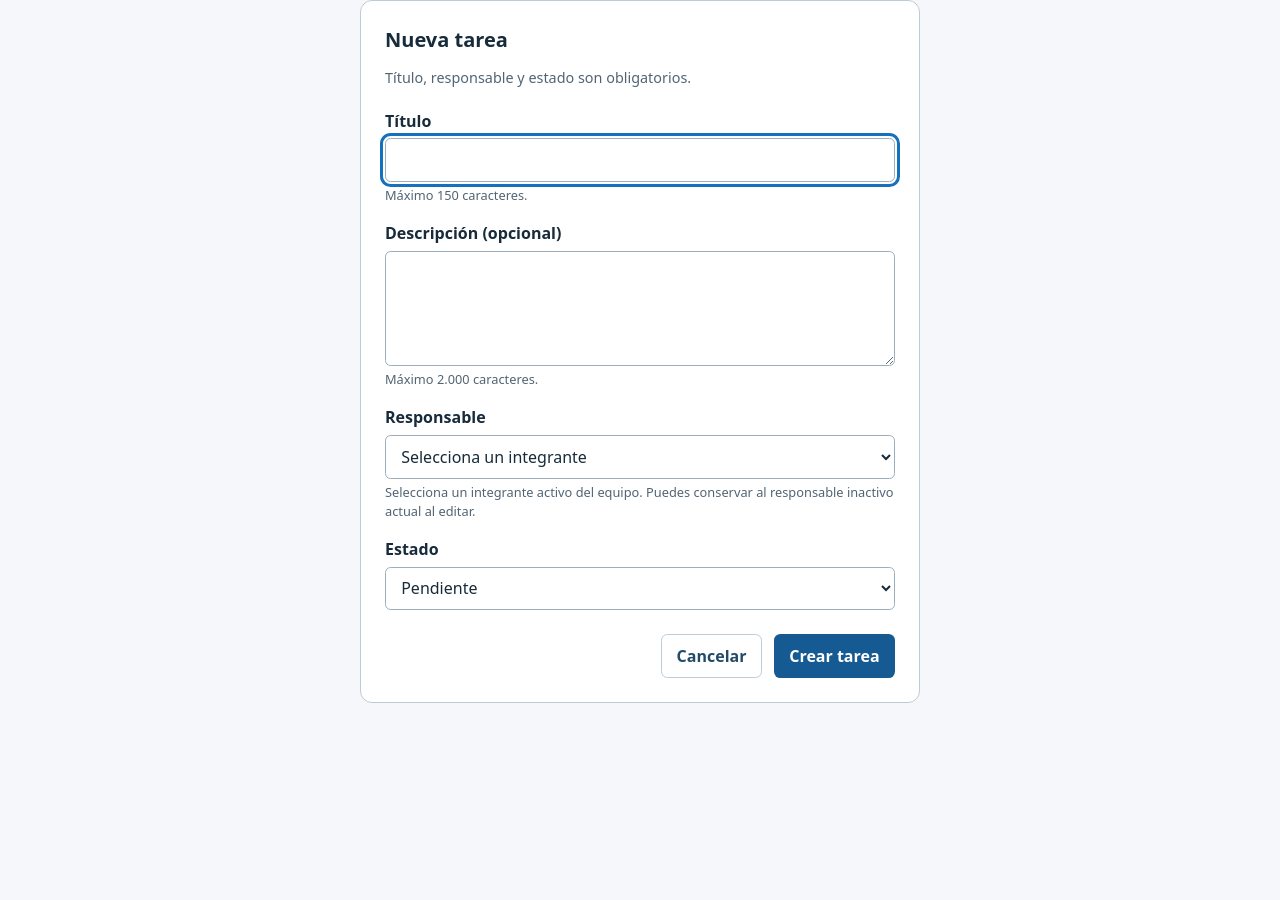
Selector de responsables registrados › conserva los datos y permite elegir otro integrante si la API rechaza al desactivado al crear
This screenshot has width=1280, height=900.
Type "Texto que debe conservarse" into the field labelled "Título" at (640, 160), box [385,138,895,182]
Type "Descripción pendiente de guardar" into the text box labelled "Descripción (opcional)" at (640, 308), box [385,251,895,366]
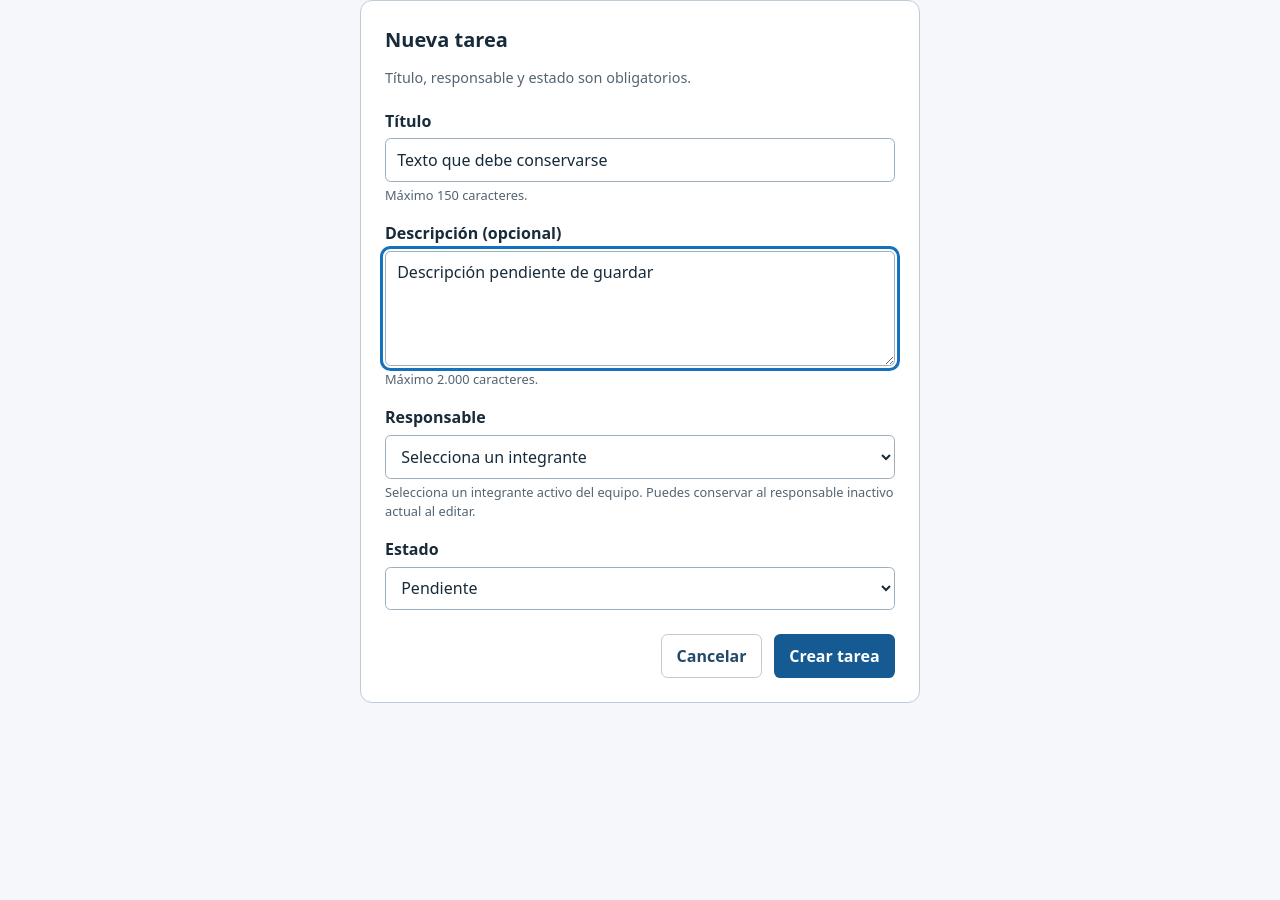
Select "Luis Torres · TI-002" in the dropdown labelled "Responsable" at (640, 457), box [385,435,895,479]
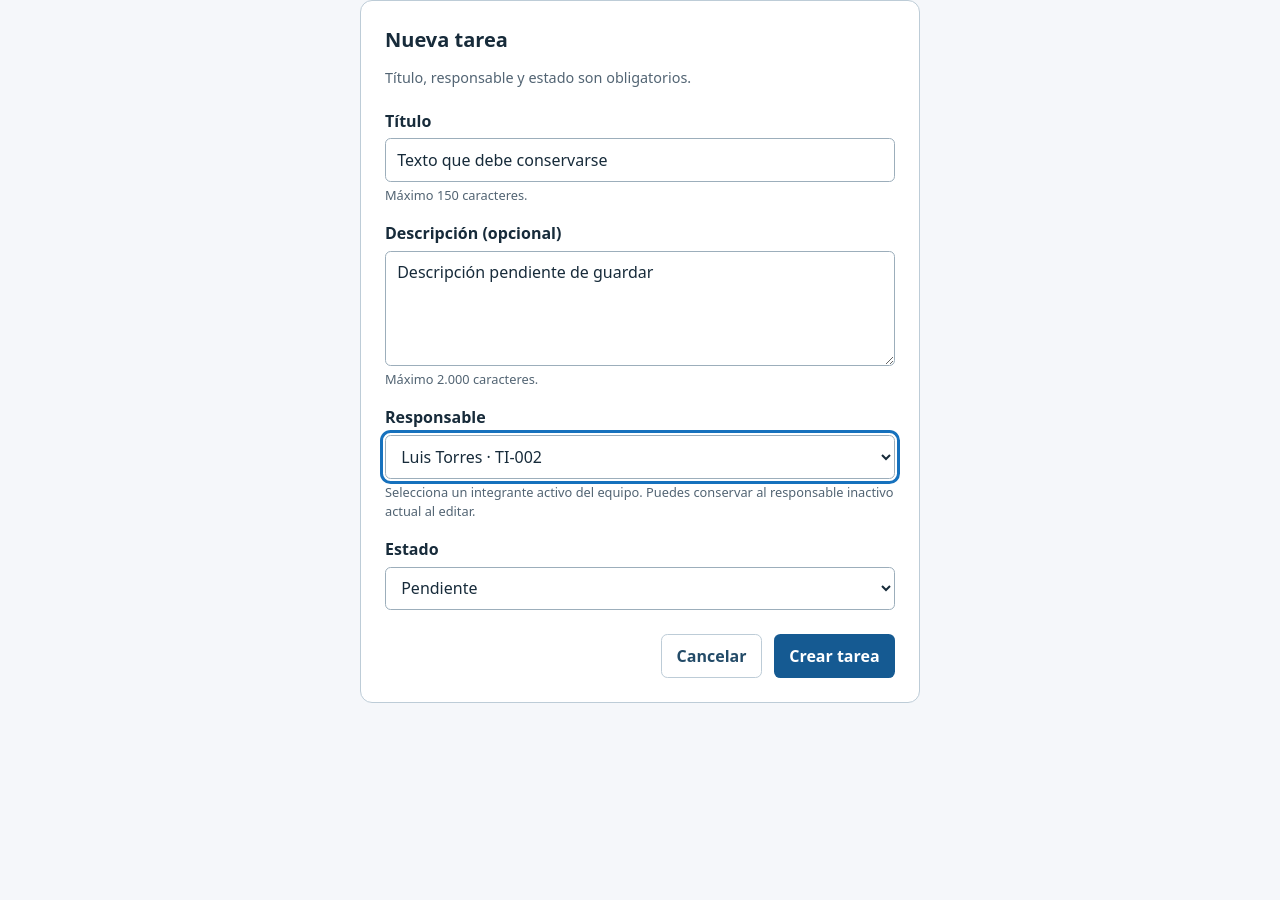
Select "En Proceso" in the dropdown labelled "Estado" at (640, 588), box [385,566,895,610]
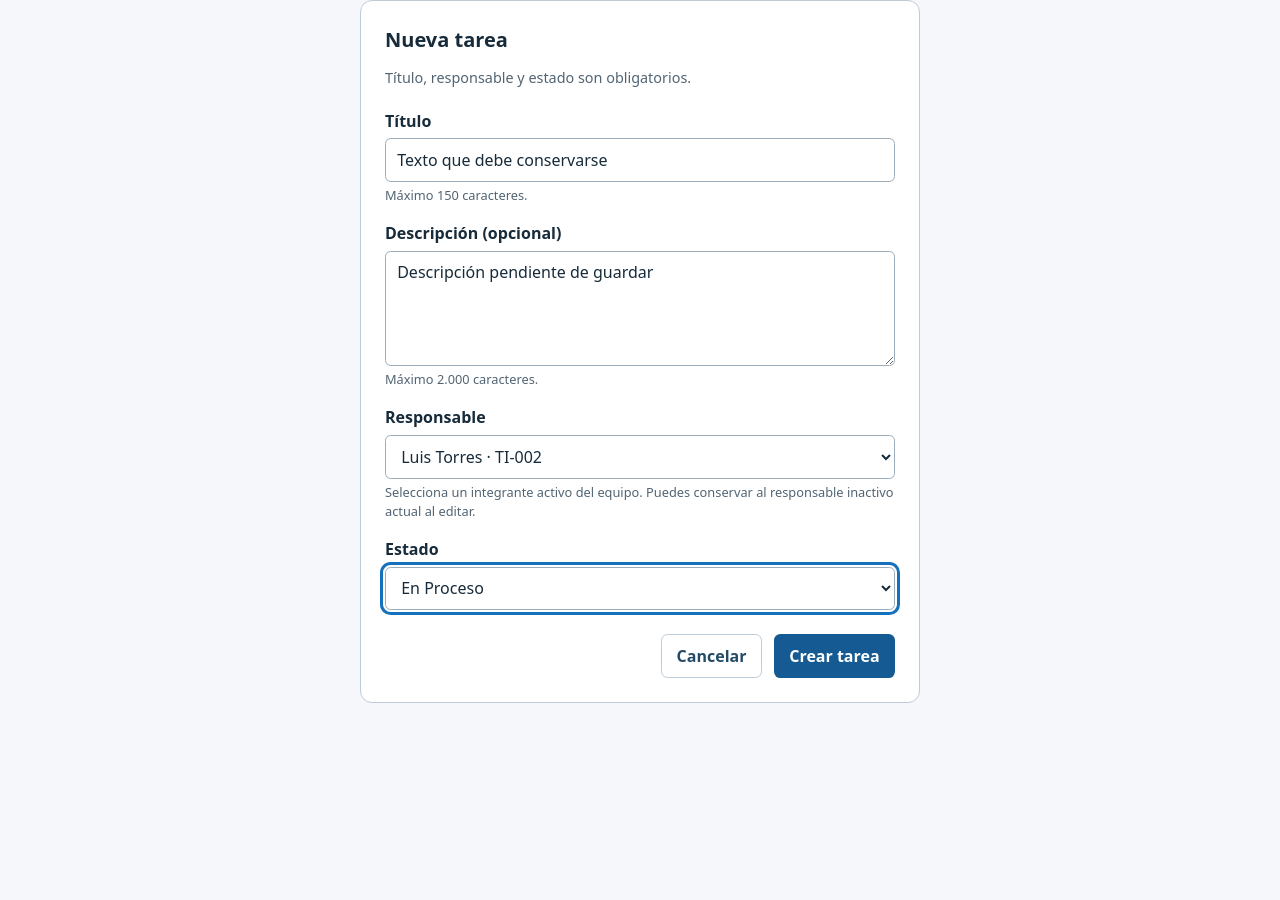
Click the button "Crear tarea" at (834, 656), box [774,634,895,678]
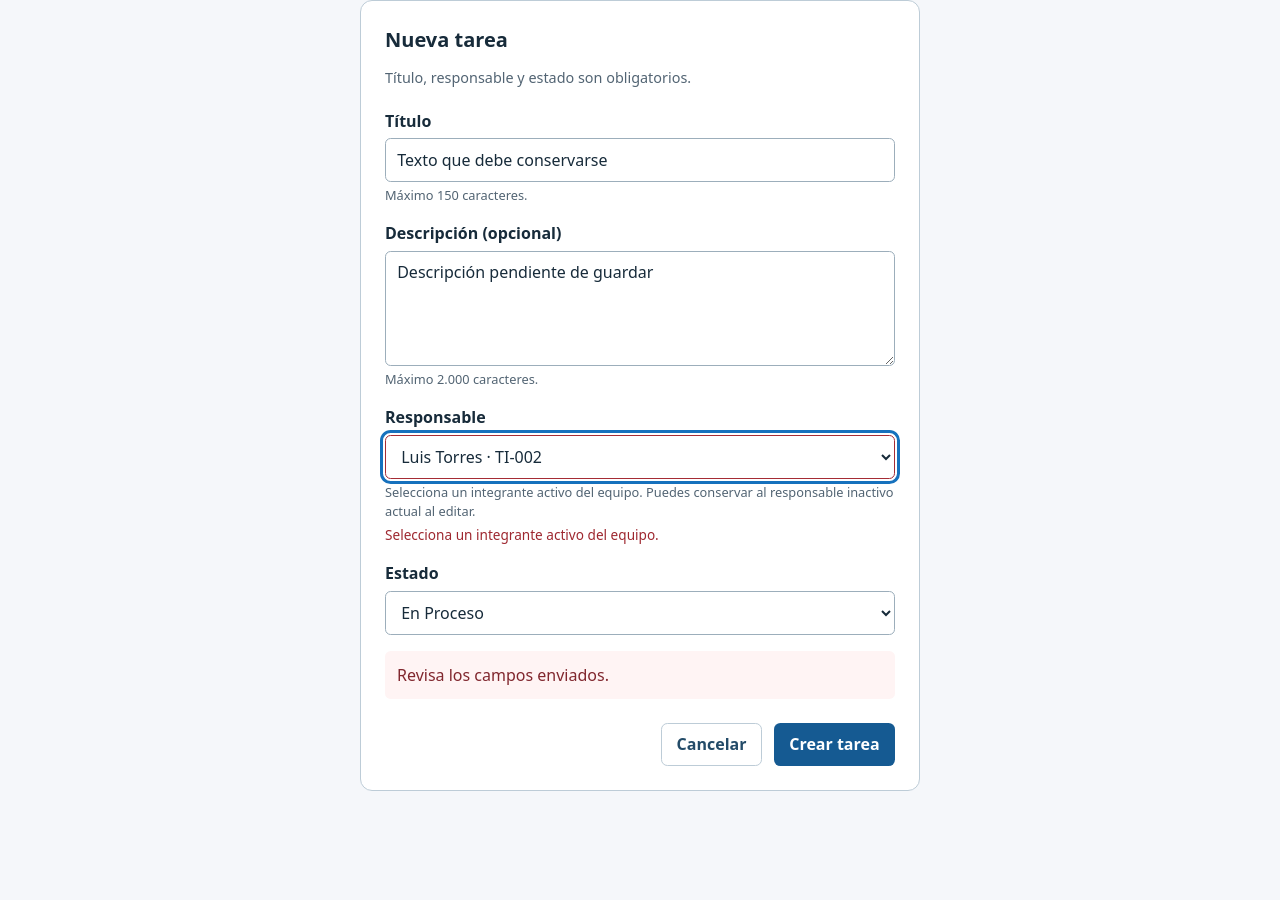
Now the message reads "Revisa los campos enviados.", box [397,664,609,686]
Now the text "Selecciona un integrante activo del equipo." is shown, box [385,525,659,544]
Select "María López · TI-003" in the dropdown labelled "Responsable" at (640, 457), box [385,435,895,479]
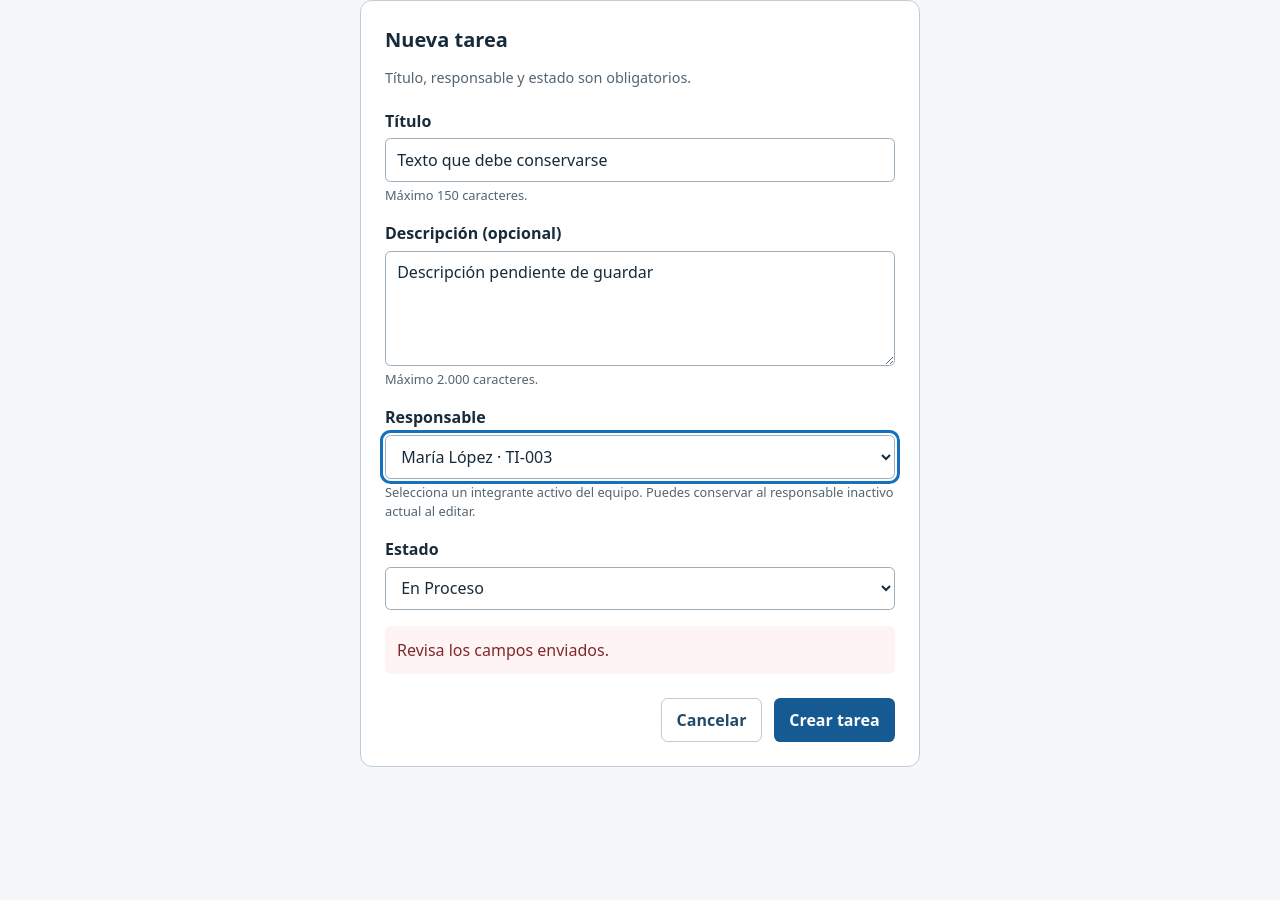
Click the button "Crear tarea" at (834, 720), box [774,698,895,742]
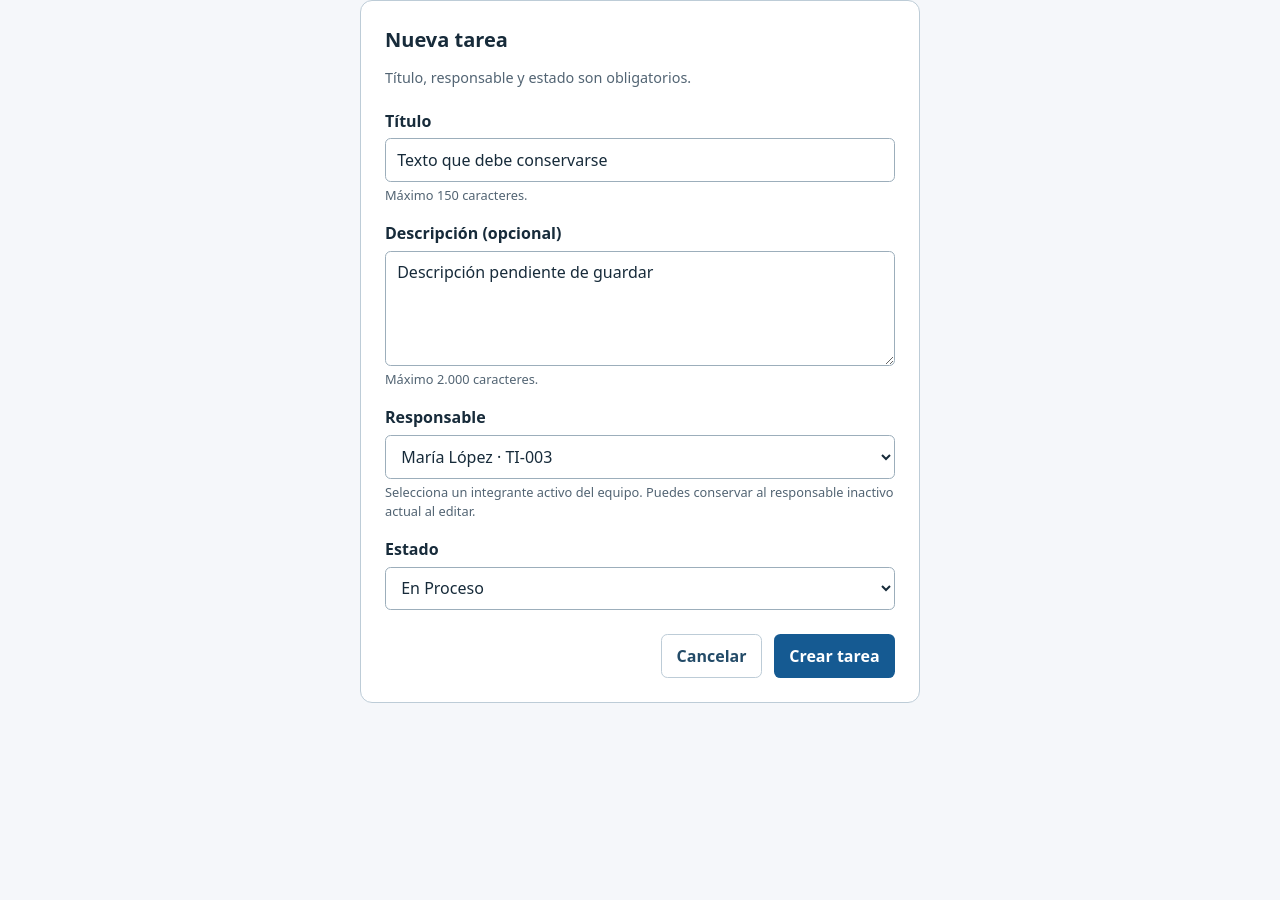
Expected: the button "Crear tarea" is enabled, [774,634,895,678]
Now the message "Revisa los campos enviados." is gone
